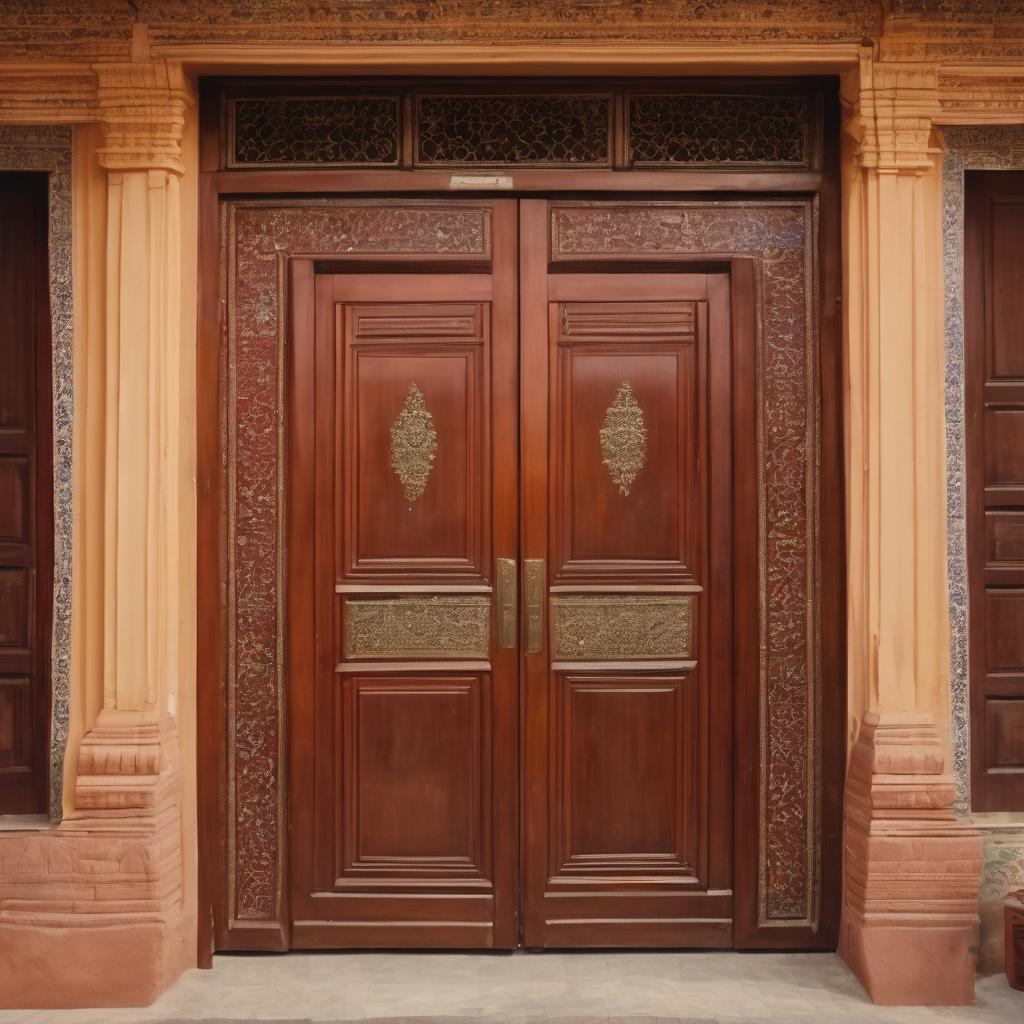door: (208, 184, 516, 962), (517, 180, 819, 960)
